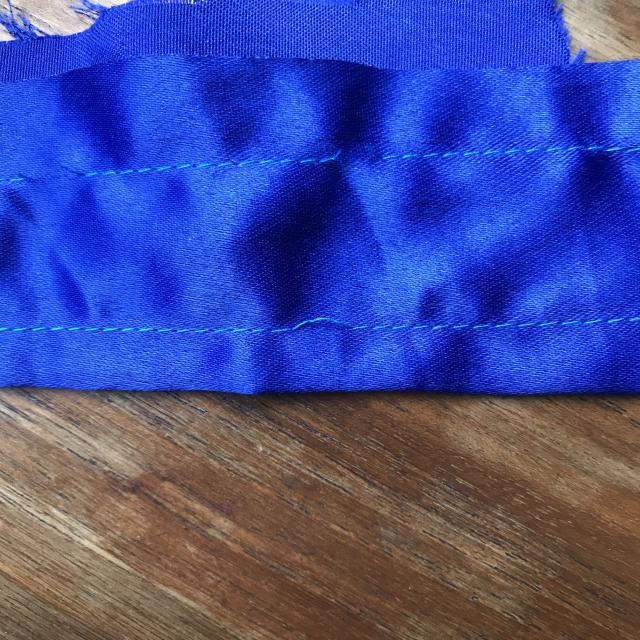broken: (305, 130, 412, 190)
good: (110, 148, 220, 186)
skip: (264, 288, 393, 352)
